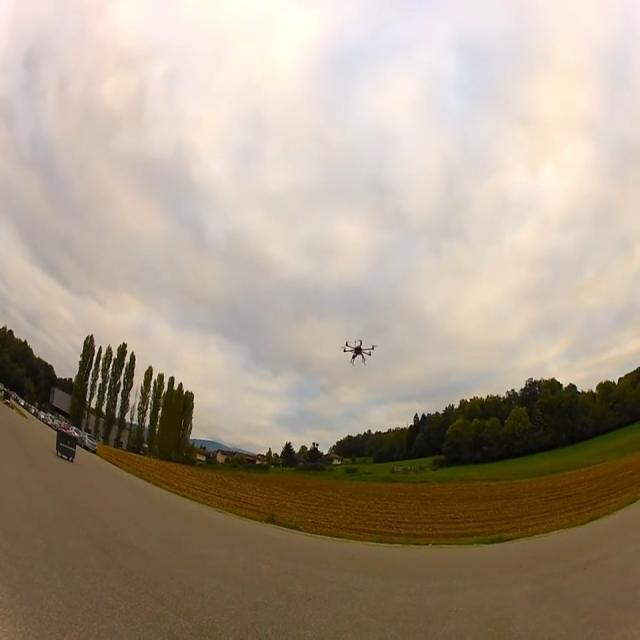drone: (341, 339, 376, 366)
